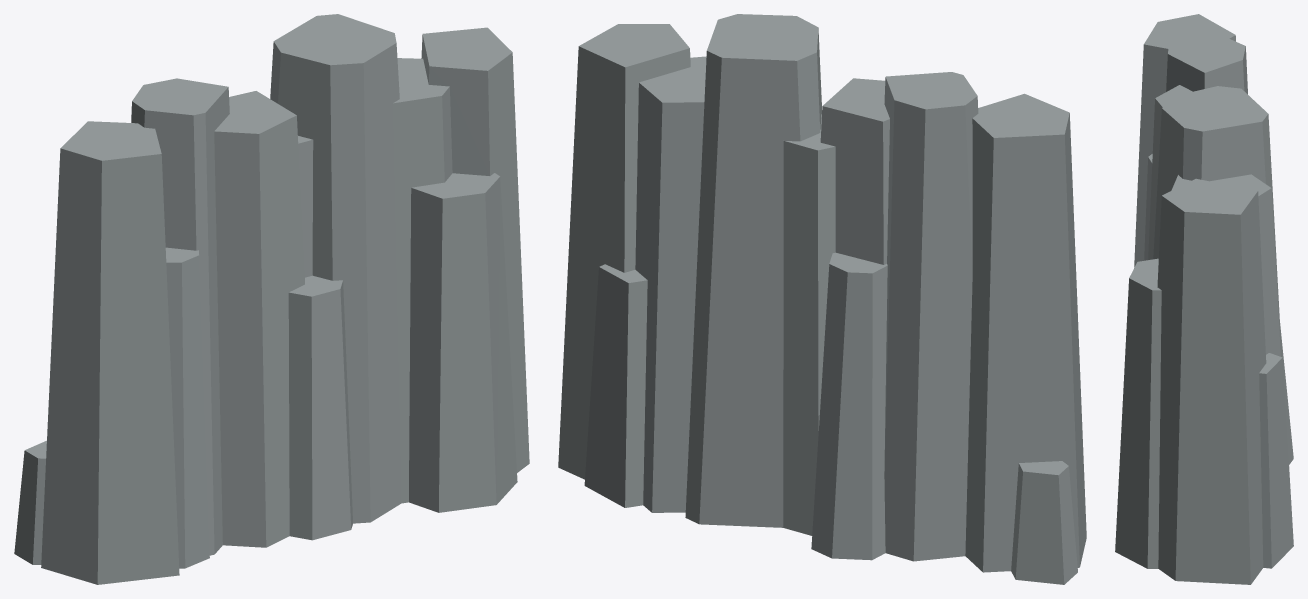
File: NHP_Rock_Wall_Curved_A1_02.fbx
3 renders of one model, left to right at view 1: azimuth 30°, elevation 25°; view 2: azimuth 150°, elevation 25°; view 3: azimuth 270°, elevation 25°, orthographic. The views are drawn at different scales.
Visible parts, largest first — view 1: NHP_Rock_Wall_Curved_A1_02; view 2: NHP_Rock_Wall_Curved_A1_02; view 3: NHP_Rock_Wall_Curved_A1_02.
Boxes of the visible parts, <box> form: NHP_Rock_Wall_Curved_A1_02: <box>14,14,529,584</box>; NHP_Rock_Wall_Curved_A1_02: <box>558,14,1086,584</box>; NHP_Rock_Wall_Curved_A1_02: <box>1115,14,1293,584</box>.
Size of the model in its own units: 13.94 by 12.25 by 4.99.
